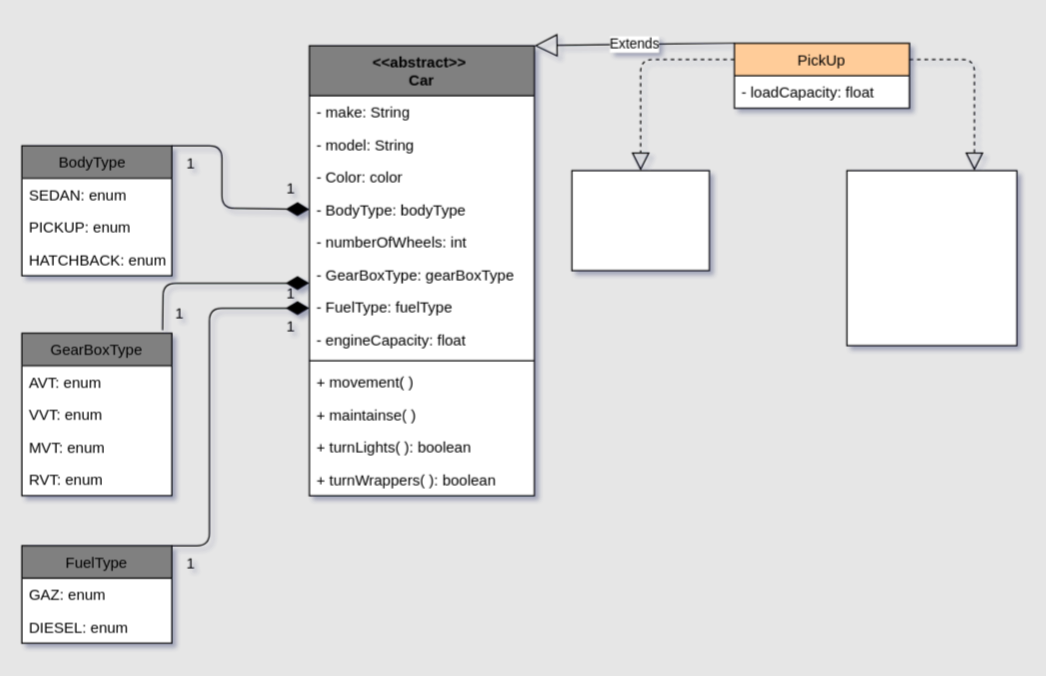
Image size: 1046x676. Some labels were removed from this diagram. The centre of each missing label's shape, as x and y in pixels:
"<<Interface>> iFuelStation + Fuel()" goes at point 640,220.
"<<Interface>> iWip + wipWindShield( ) + wipHeadLights( ) + wipMirors( )" goes at point 931,257.
